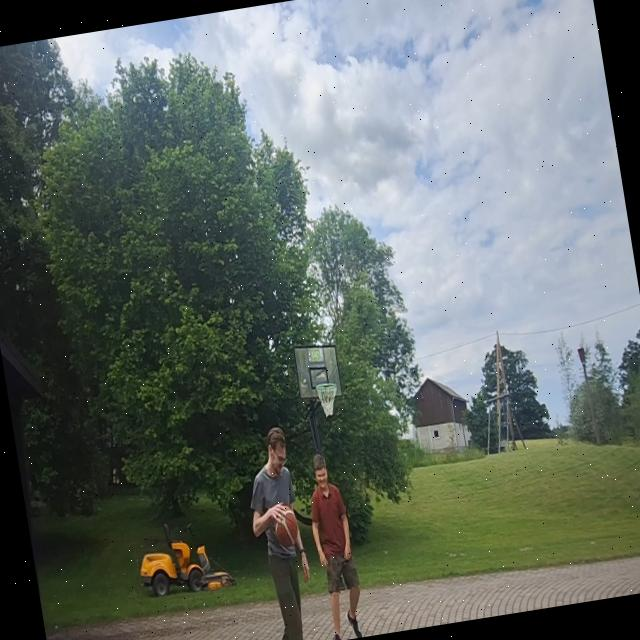ball: (270, 500, 302, 550)
basket: (316, 378, 342, 420)
player: (236, 421, 321, 640), (298, 443, 368, 640)
